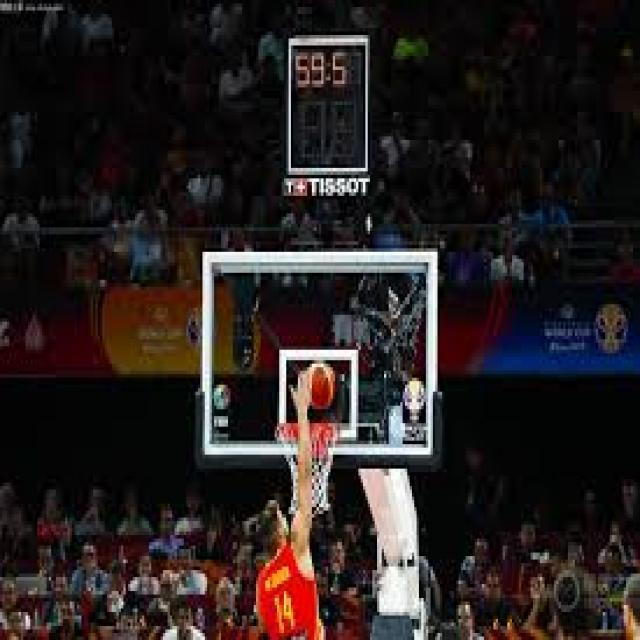rim: (304, 363, 338, 412)
